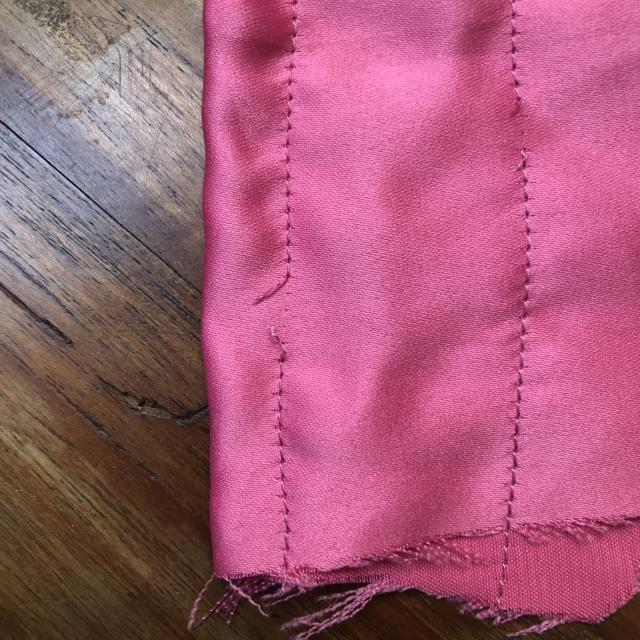broken: (237, 256, 322, 369)
